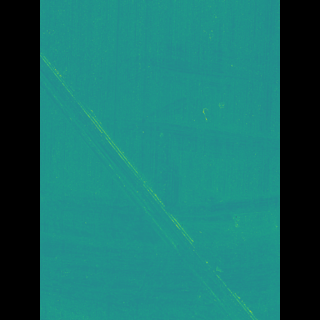Loch: (69, 48, 232, 320), (69, 186, 251, 320), (155, 38, 250, 95), (113, 126, 252, 160)
